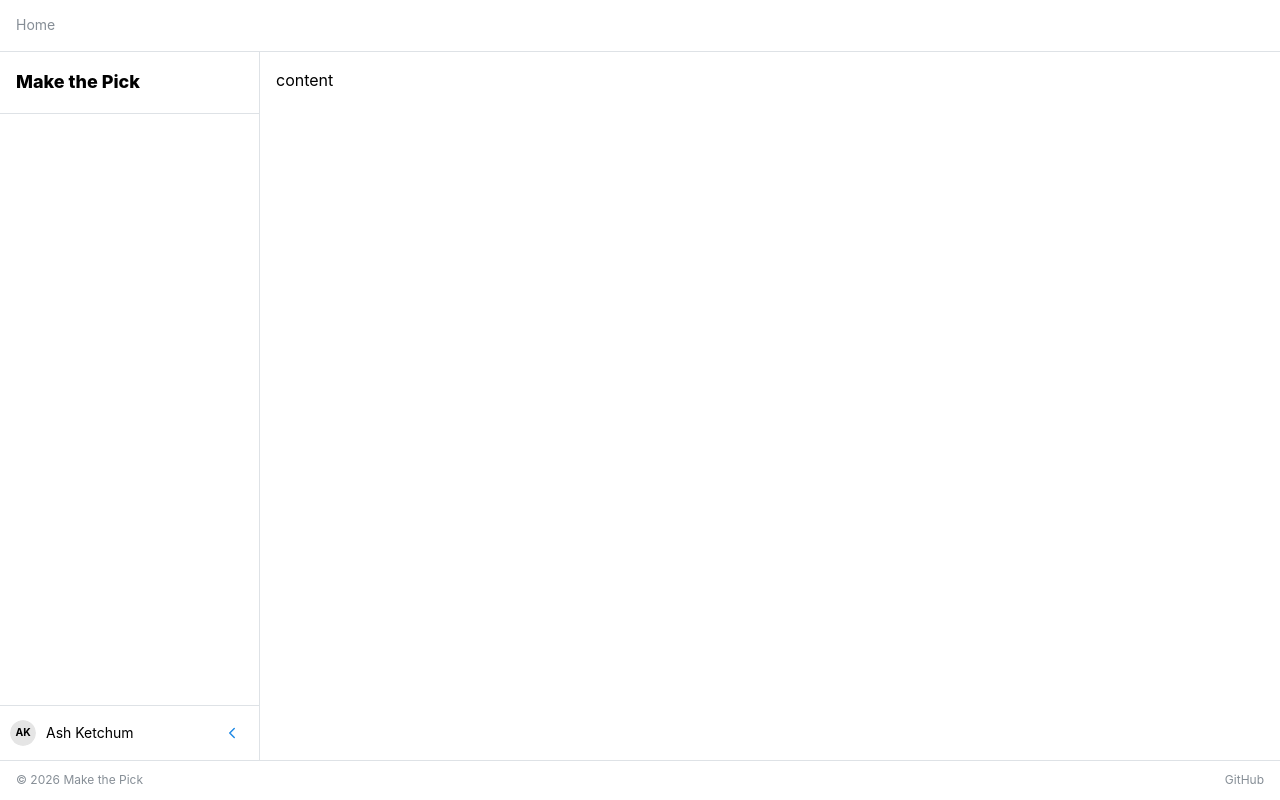
Test: AppLayout shell › exposes Sign out via the user menu in the sidebar
Click the button "AK Ash Ketchum".
click(108, 733)  # box [10,720,205,746]
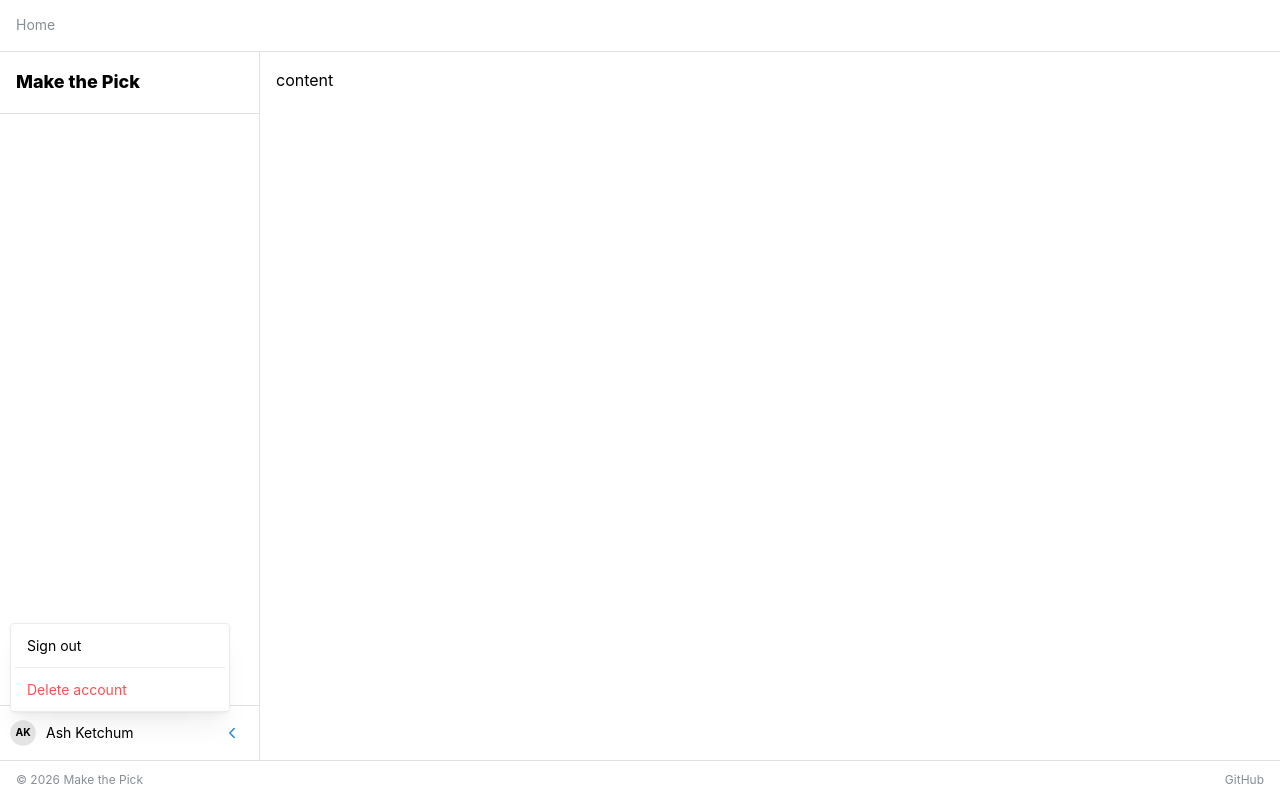
Expected: the menu item "Sign out" is shown, [15,628,225,663]
Expected: the menu item "Delete account" is shown, [15,672,225,707]
